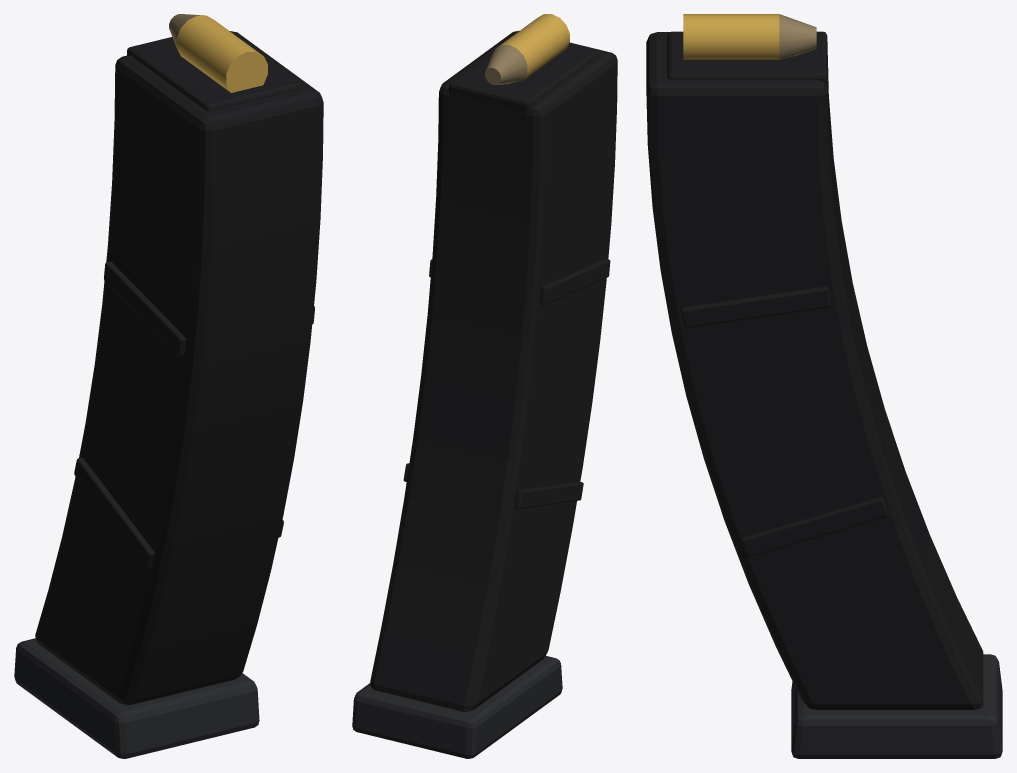
Rendered from mp5_cargador.glb.
3 views of the same model, side by side, from view 1: azimuth 30°, elevation 25°; view 2: azimuth 150°, elevation 25°; view 3: azimuth 270°, elevation 25° (orthographic). The views are drawn at different scales.
Parts seen in each view (by area): view 1: mp5_cargador; view 2: mp5_cargador; view 3: mp5_cargador.
Part boxes in pixels (x1,y1,x2,y2): mp5_cargador: [14, 14, 323, 758]; mp5_cargador: [352, 14, 617, 758]; mp5_cargador: [646, 14, 1002, 758].
Bounding box in the file's own units: 0.03 × 0.1475 × 0.0669.
